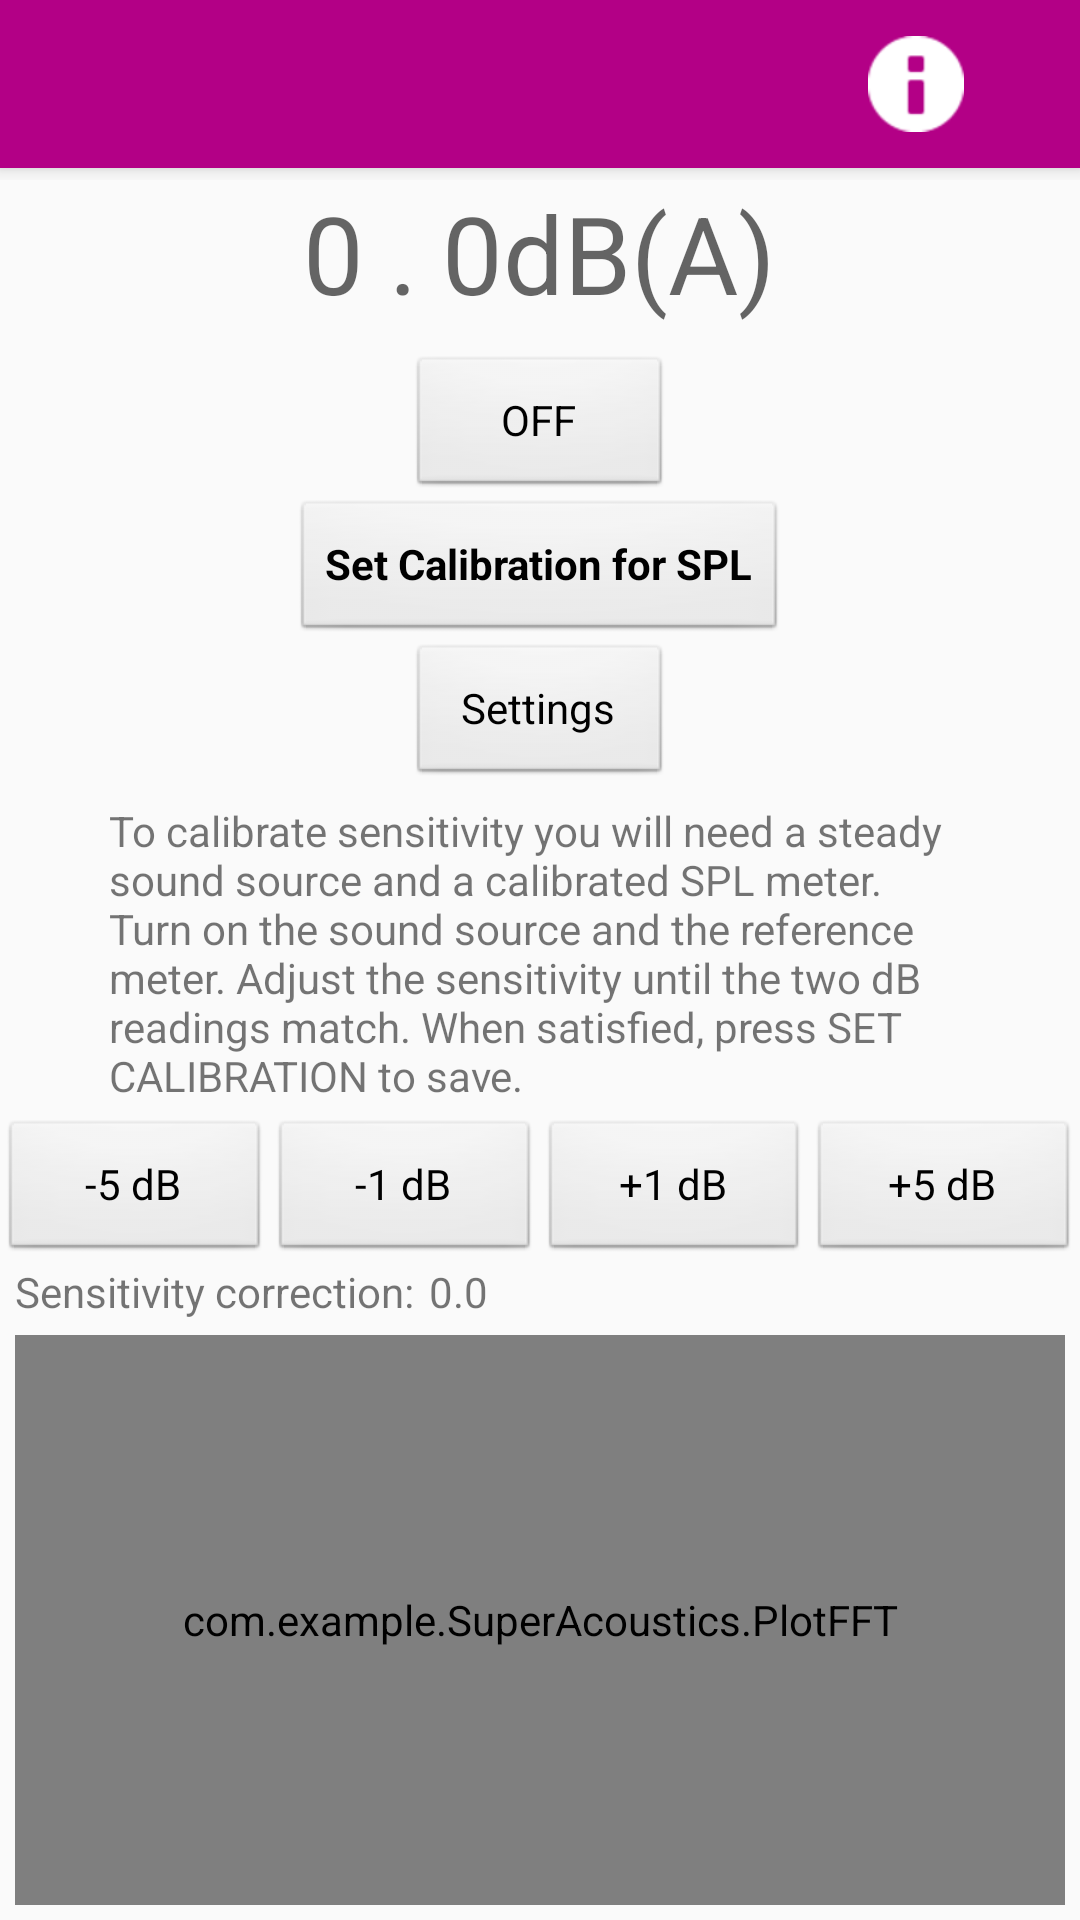

Where icons sit on this 1080 x 1920 app screen, as (x1, y1, x2, y2):
info: (868, 36, 964, 132)
